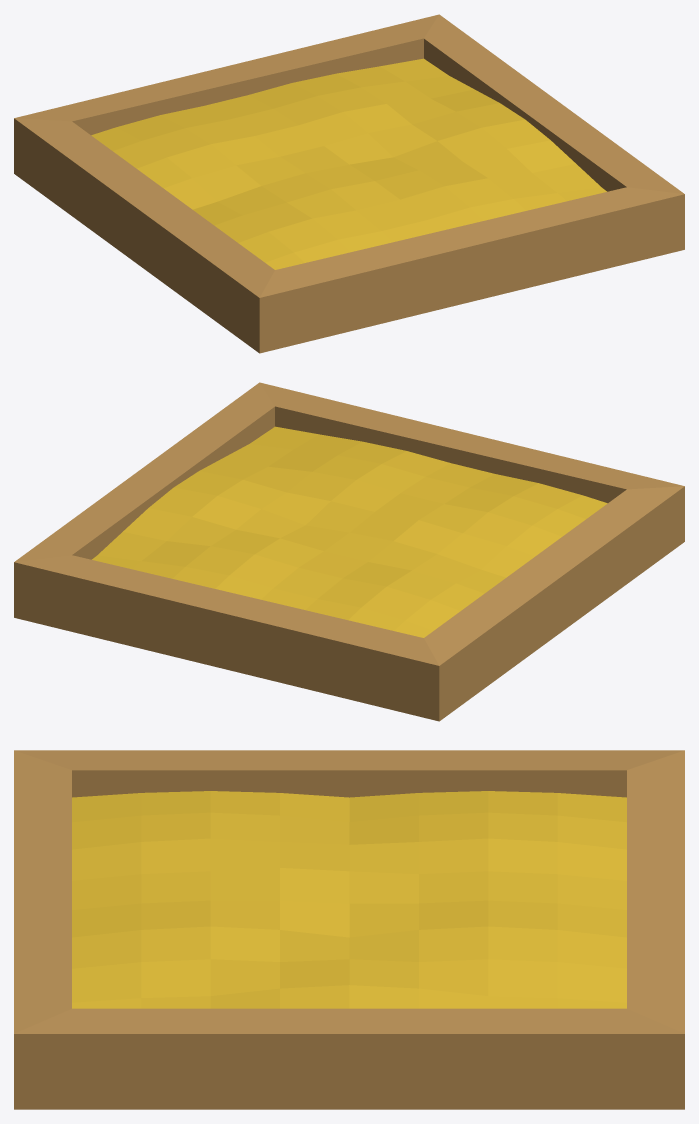
File: low-poly-sandbox.fbx
The picture shows the model from 3 angles, top to bottom: view 1: azimuth 30°, elevation 25°; view 2: azimuth 150°, elevation 25°; view 3: azimuth 270°, elevation 25°; orthographic projection. The views are drawn at different scales.
Visible parts, largest first — view 1: Sandbox; view 2: Sandbox; view 3: Sandbox.
Part boxes in pixels (bbox=[...]): Sandbox: bbox=[14, 14, 684, 353]; Sandbox: bbox=[14, 382, 684, 721]; Sandbox: bbox=[14, 750, 684, 1109].
Bounding box in the file's own units: 1012 × 134 × 1012.
